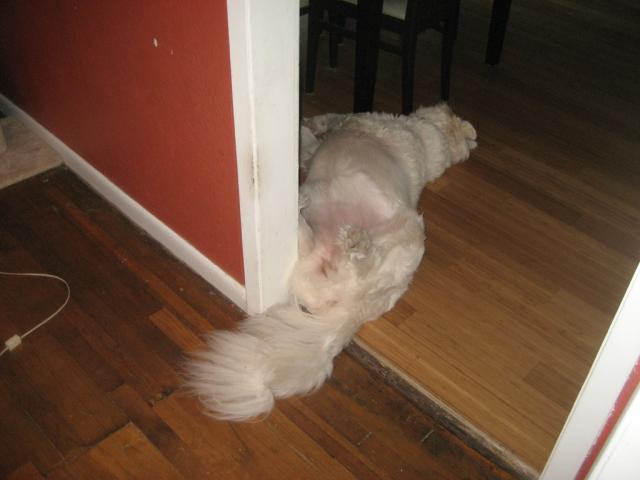Dog: (179, 103, 477, 418)
